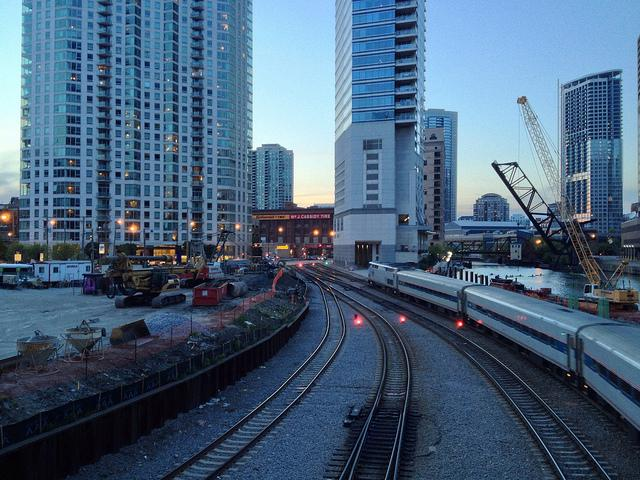Train: (367, 262, 640, 438)
